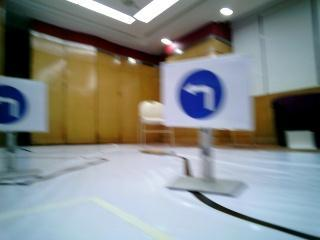left: (163, 65, 242, 125)
